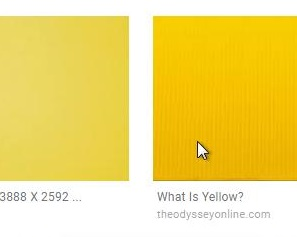cursor: (195, 139, 210, 160)
